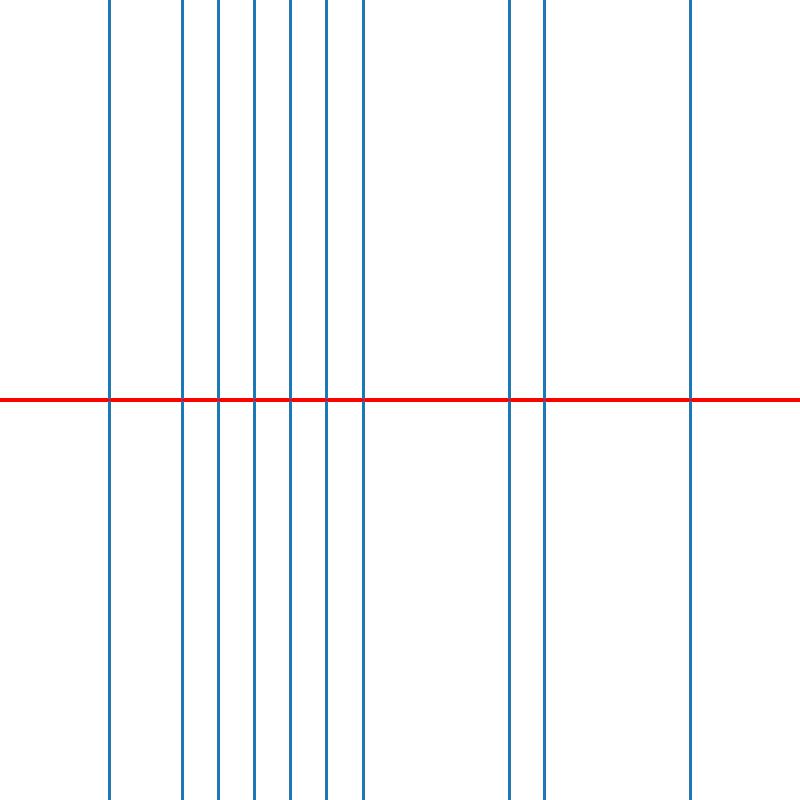root: (250, 396, 258, 404), (541, 396, 549, 404), (687, 396, 694, 404), (323, 396, 330, 404), (105, 396, 112, 404), (360, 396, 367, 404), (505, 396, 512, 404), (287, 396, 294, 404), (178, 396, 185, 404), (214, 396, 221, 404)
